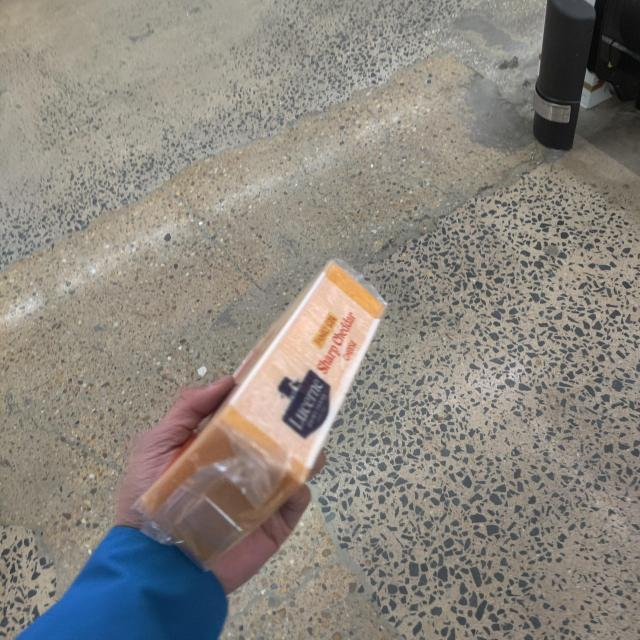cheese: (136, 258, 387, 568)
